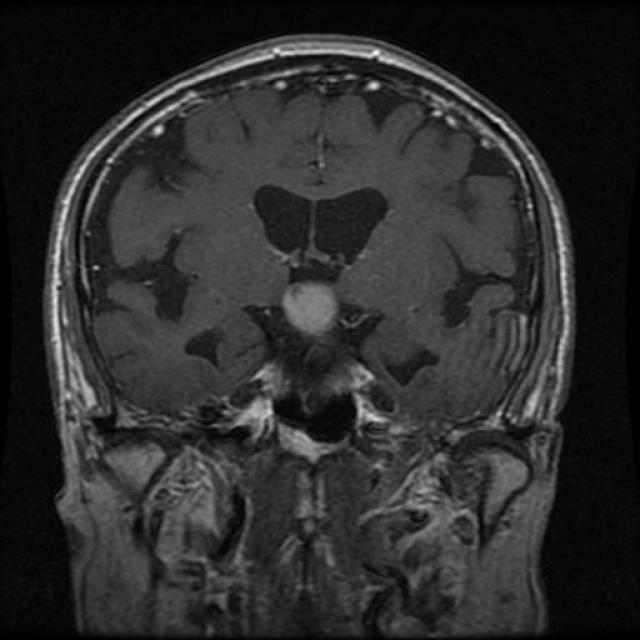pituitary: (268, 280, 381, 408)
